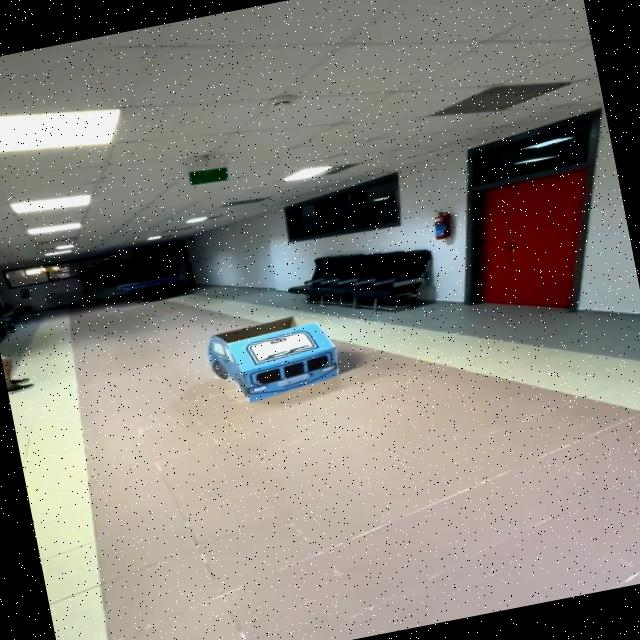blue_car: (181, 286, 374, 427)
